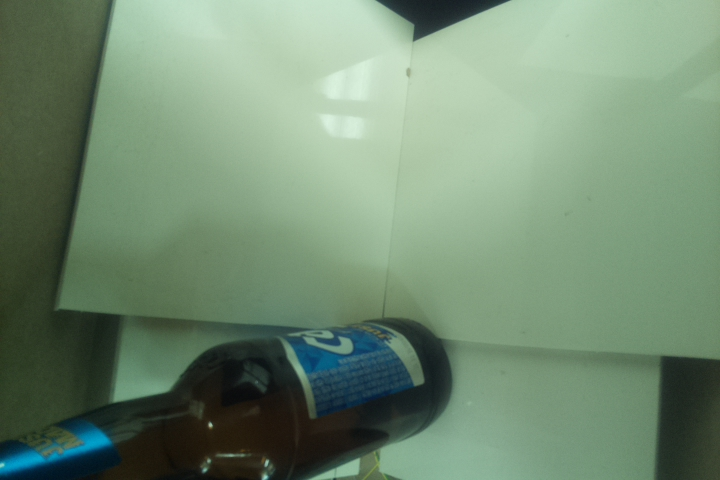makju: (1, 317, 452, 480)
